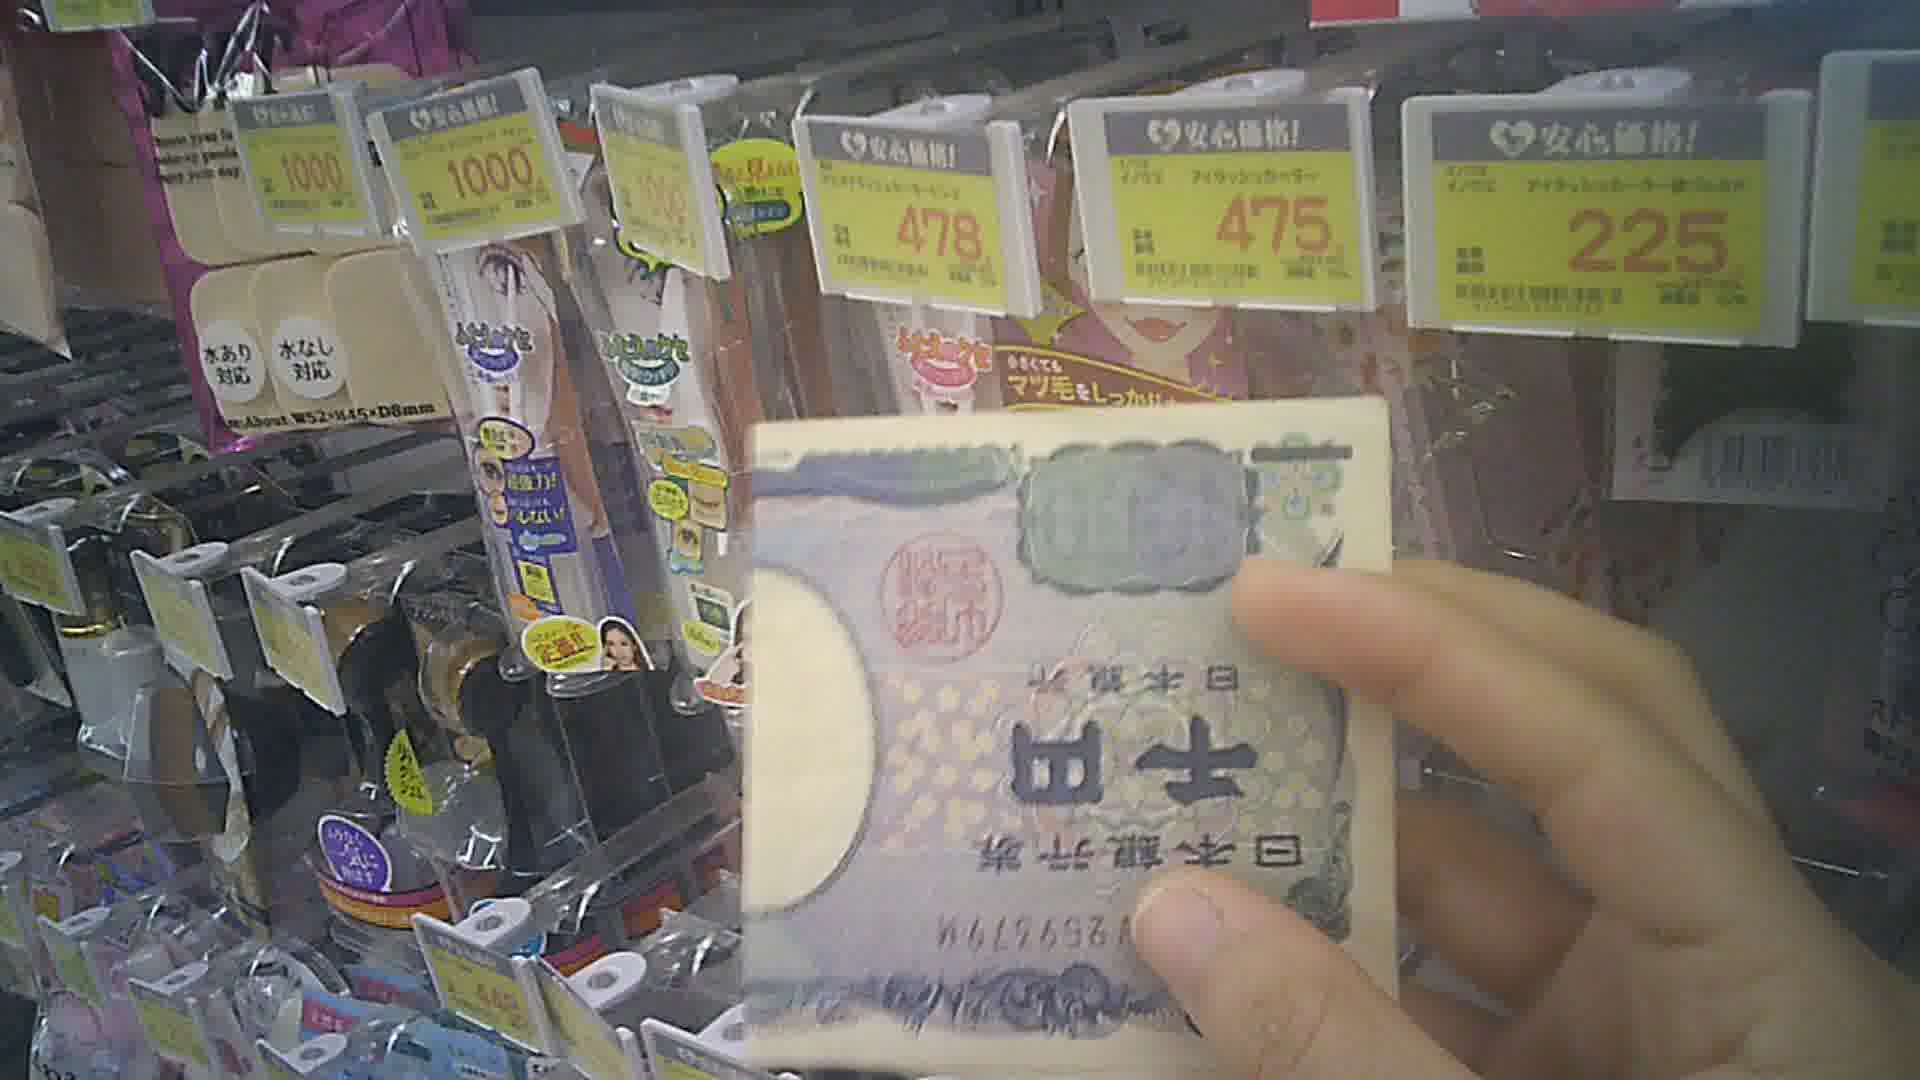1,000 Yen: (749, 400, 1396, 1054)
